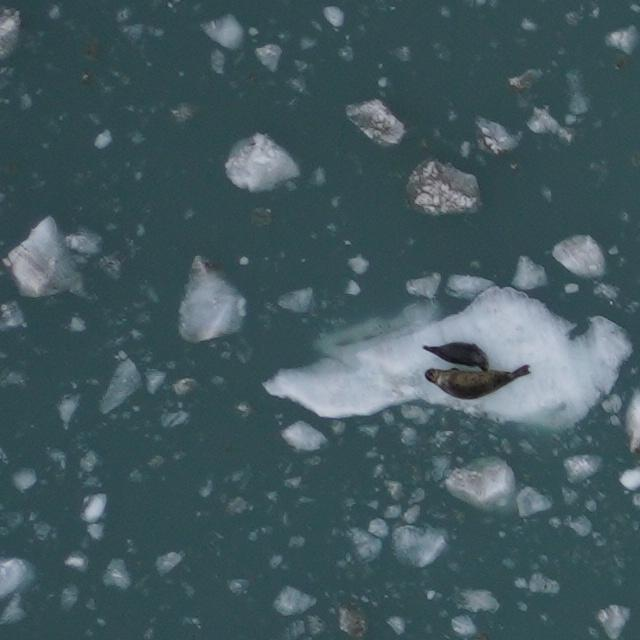seal: (422, 362, 536, 402), (420, 338, 493, 374)
